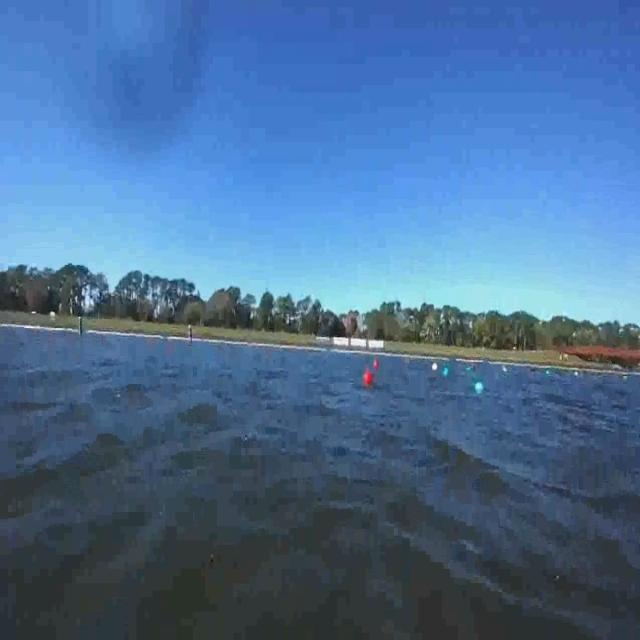green-buoy: (473, 381, 486, 399), (442, 364, 450, 380)
red-buoy: (362, 369, 373, 389), (373, 359, 379, 373)
yellow-buoy: (431, 360, 438, 372)
